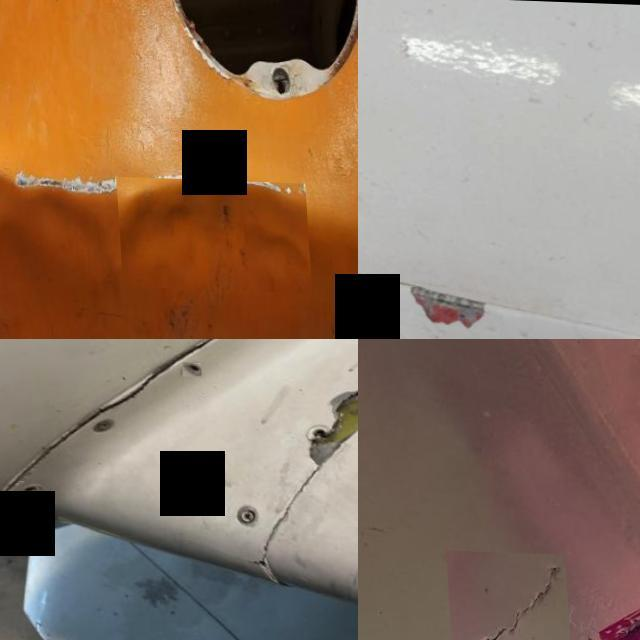Crack: (358, 253, 520, 339), (442, 548, 568, 640), (78, 352, 184, 429), (285, 369, 358, 469), (0, 430, 51, 527), (228, 548, 276, 571)
Dent: (115, 177, 302, 289), (13, 186, 103, 269)
Missing_Fastener: (12, 482, 35, 497), (177, 360, 197, 374)
